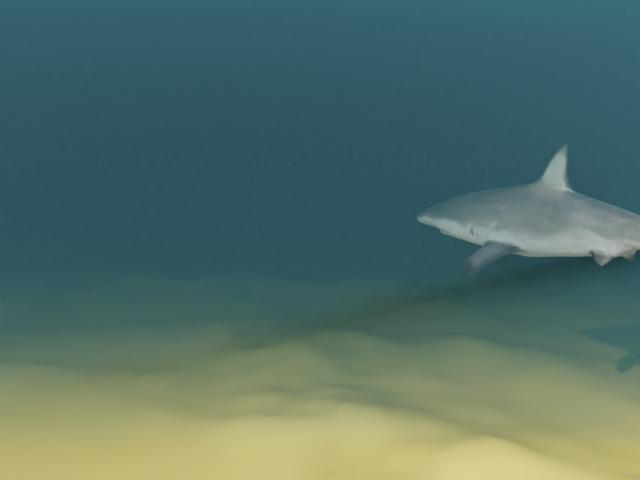Carribean Shark.001: (417, 144, 640, 297)
